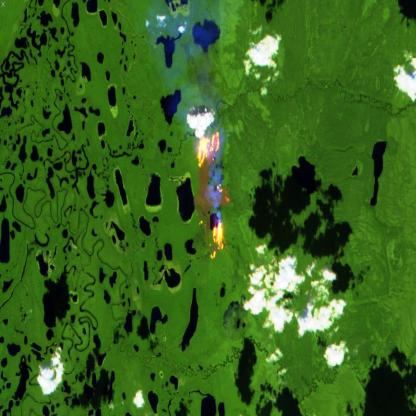fire: (194, 129, 231, 260)
